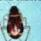cockroach: (7, 6, 24, 39)
